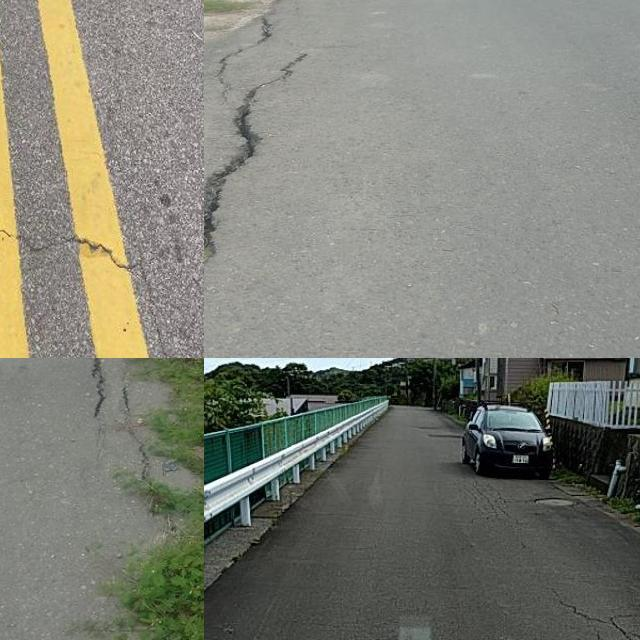Melintang: (0, 216, 188, 275)
Pinggir: (204, 0, 349, 284), (74, 358, 204, 640)
